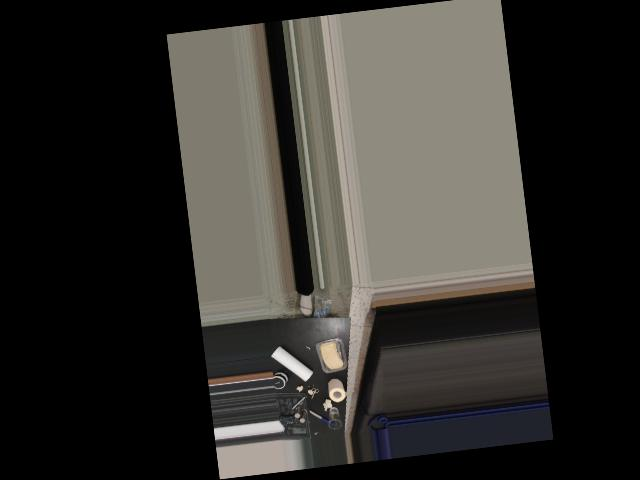cheese: (313, 333, 349, 375)
